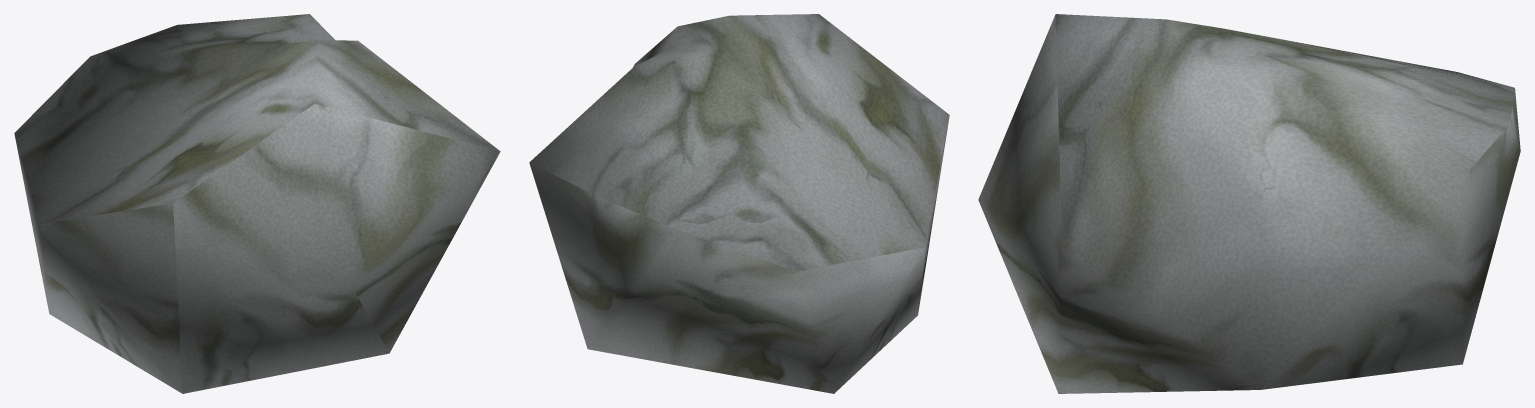
The model's file is Rock_medium01.fbx.
3 views of the same model, side by side, from view 1: azimuth 30°, elevation 25°; view 2: azimuth 150°, elevation 25°; view 3: azimuth 270°, elevation 25° (orthographic). The views are drawn at different scales.
Visible parts, largest first — view 1: Rock_medium01; view 2: Rock_medium01; view 3: Rock_medium01.
Boxes of the visible parts, box(x1,y1,x2,y2) form: Rock_medium01: box(14, 14, 500, 393); Rock_medium01: box(529, 14, 949, 393); Rock_medium01: box(978, 14, 1520, 393).
Bounding box in the file's own units: 0.8656 × 0.622 × 0.8445.
1 material, 1 textured.
